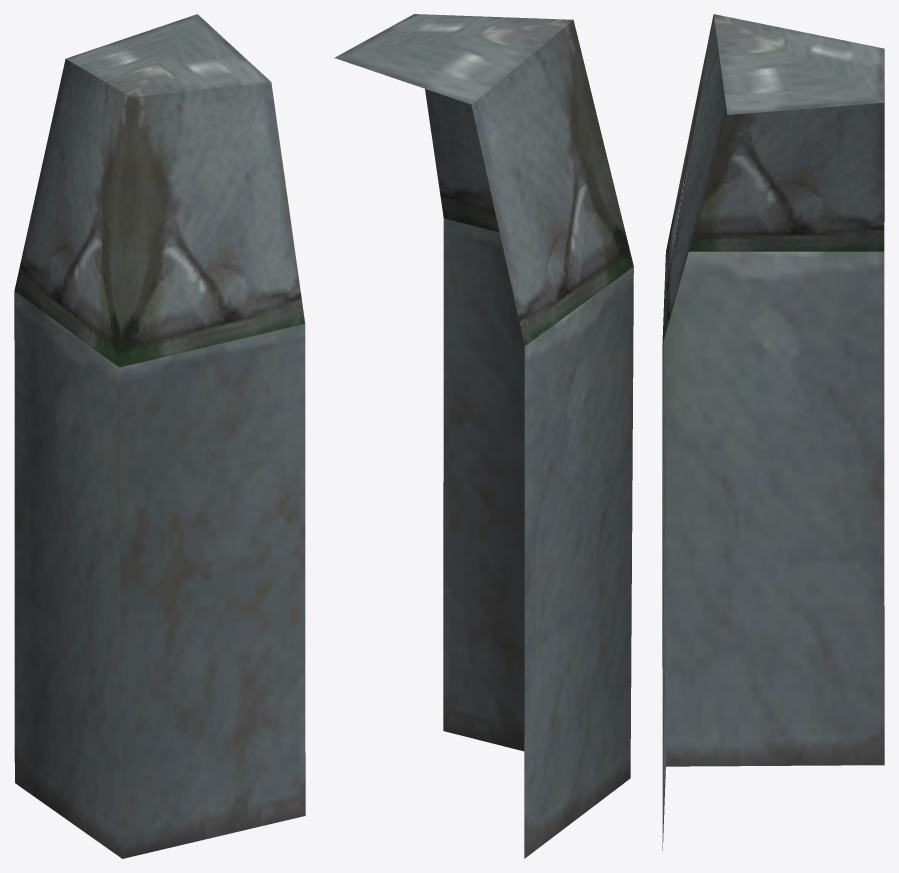
The model's file is stemple_quarter_convex_03.fbx.
The picture shows the model from 3 angles, left to right: view 1: azimuth 30°, elevation 25°; view 2: azimuth 150°, elevation 25°; view 3: azimuth 270°, elevation 25°; orthographic projection. The views are drawn at different scales.
Parts seen in each view (by area): view 1: stemple_quarter_convex_03-0; view 2: stemple_quarter_convex_03-0; view 3: stemple_quarter_convex_03-0.
Part boxes in pixels (x1=…): stemple_quarter_convex_03-0: x1=14, y1=14, x2=305, y2=858; stemple_quarter_convex_03-0: x1=334, y1=14, x2=633, y2=858; stemple_quarter_convex_03-0: x1=662, y1=14, x2=884, y2=850.
Size of the model in its own units: 0.42 by 1.6 by 0.4195.
